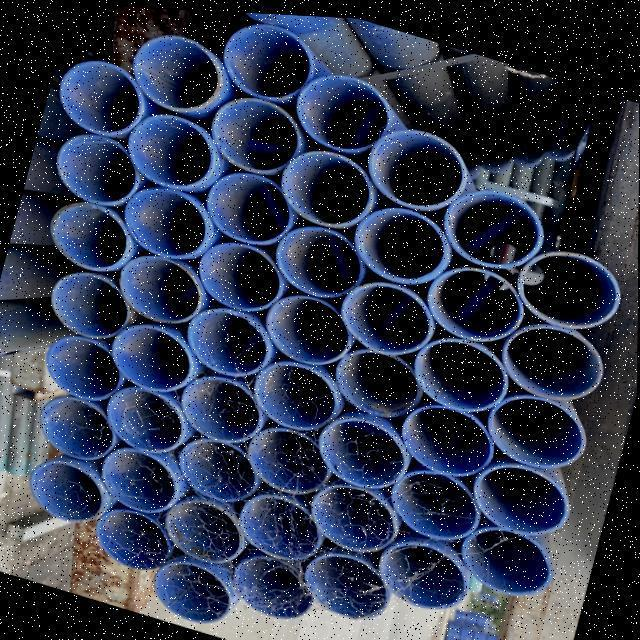pipe: (439, 172, 541, 265), (496, 303, 599, 394), (294, 55, 390, 150), (364, 118, 465, 207), (511, 242, 617, 324), (482, 383, 582, 462), (457, 508, 550, 591), (398, 391, 491, 472), (277, 144, 370, 225), (410, 331, 507, 408), (351, 199, 444, 278), (218, 20, 311, 99), (467, 454, 567, 527), (314, 405, 403, 487), (424, 259, 521, 334), (340, 273, 432, 350), (207, 93, 297, 171), (274, 217, 361, 296), (200, 162, 288, 240), (180, 295, 267, 373), (332, 341, 420, 418), (123, 106, 212, 182), (263, 288, 350, 364), (57, 56, 142, 133), (130, 32, 217, 107), (304, 471, 392, 544), (376, 532, 466, 603), (386, 460, 474, 532), (192, 234, 280, 306), (120, 179, 203, 255), (251, 351, 334, 426), (109, 320, 193, 392), (303, 546, 390, 615), (52, 128, 132, 203), (241, 422, 329, 490), (115, 245, 198, 317), (48, 269, 127, 343), (104, 383, 187, 453), (48, 198, 128, 270), (173, 368, 255, 438), (96, 438, 176, 508), (234, 488, 317, 555), (173, 431, 253, 498), (37, 390, 112, 461), (148, 556, 233, 618), (163, 496, 244, 561), (44, 331, 123, 397), (230, 551, 310, 616), (23, 454, 99, 519), (91, 501, 169, 564)
